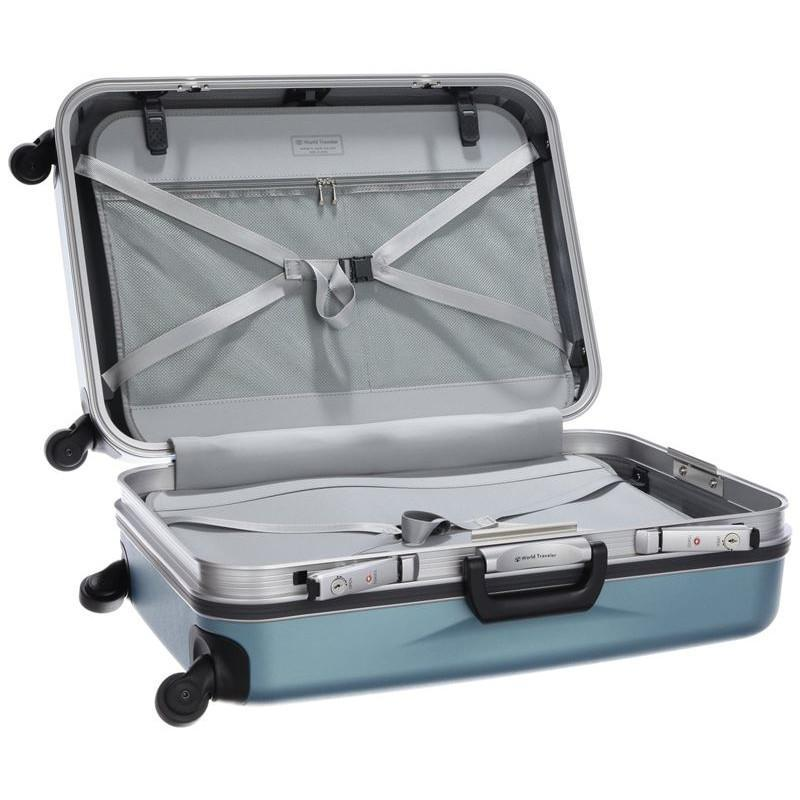luggage: (10, 75, 792, 726)
